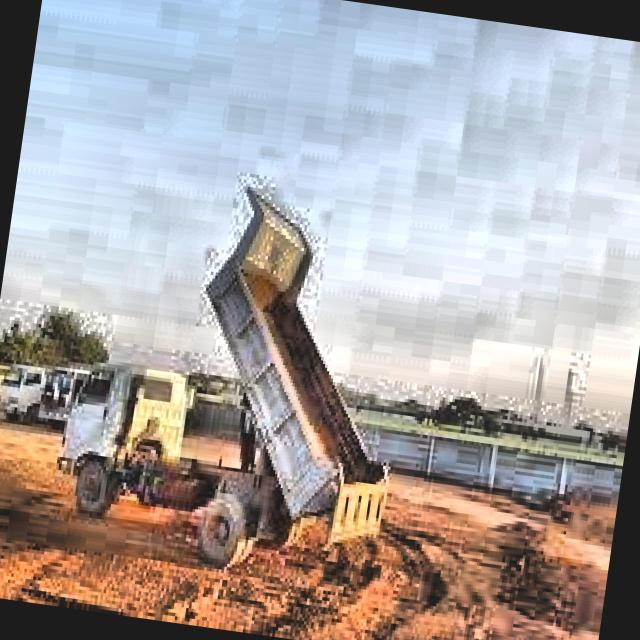dump_truck: (45, 173, 428, 595)
